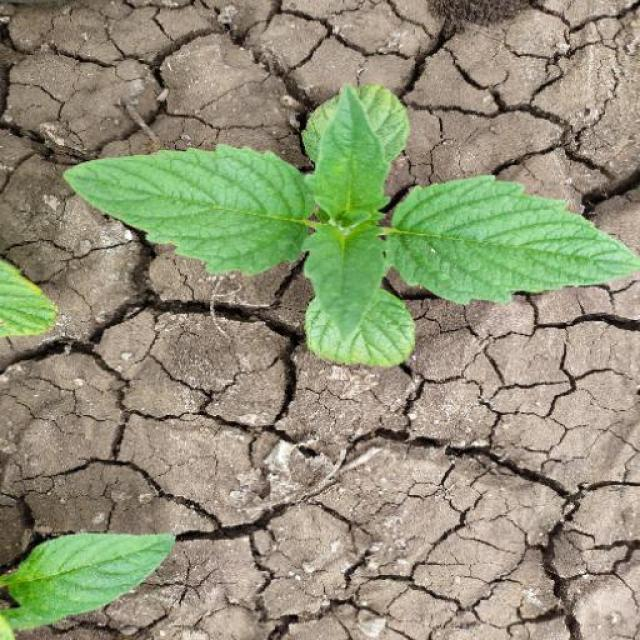crop: (55, 75, 639, 370)
